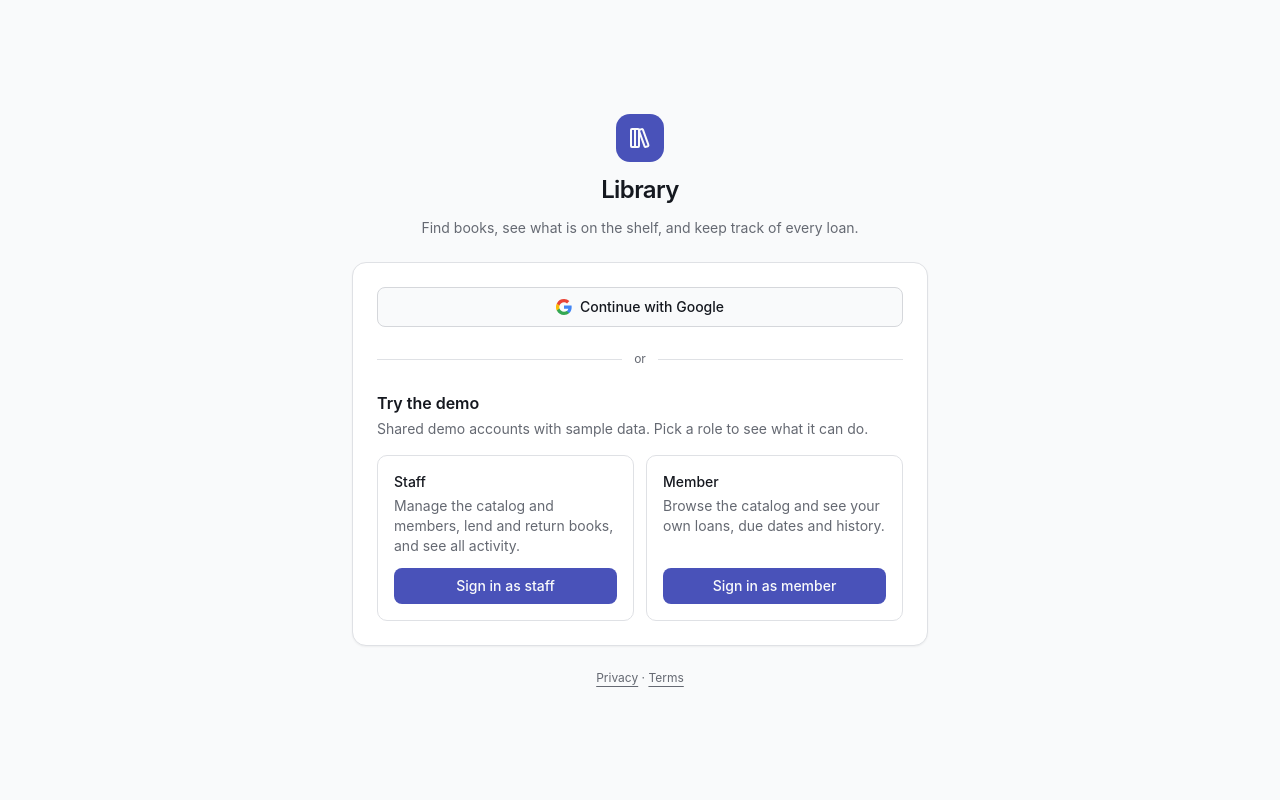
it: SignInPage › comes back to the page in next after signing in
Click the button "Sign in as member" at (774, 586), box [663, 568, 886, 604]
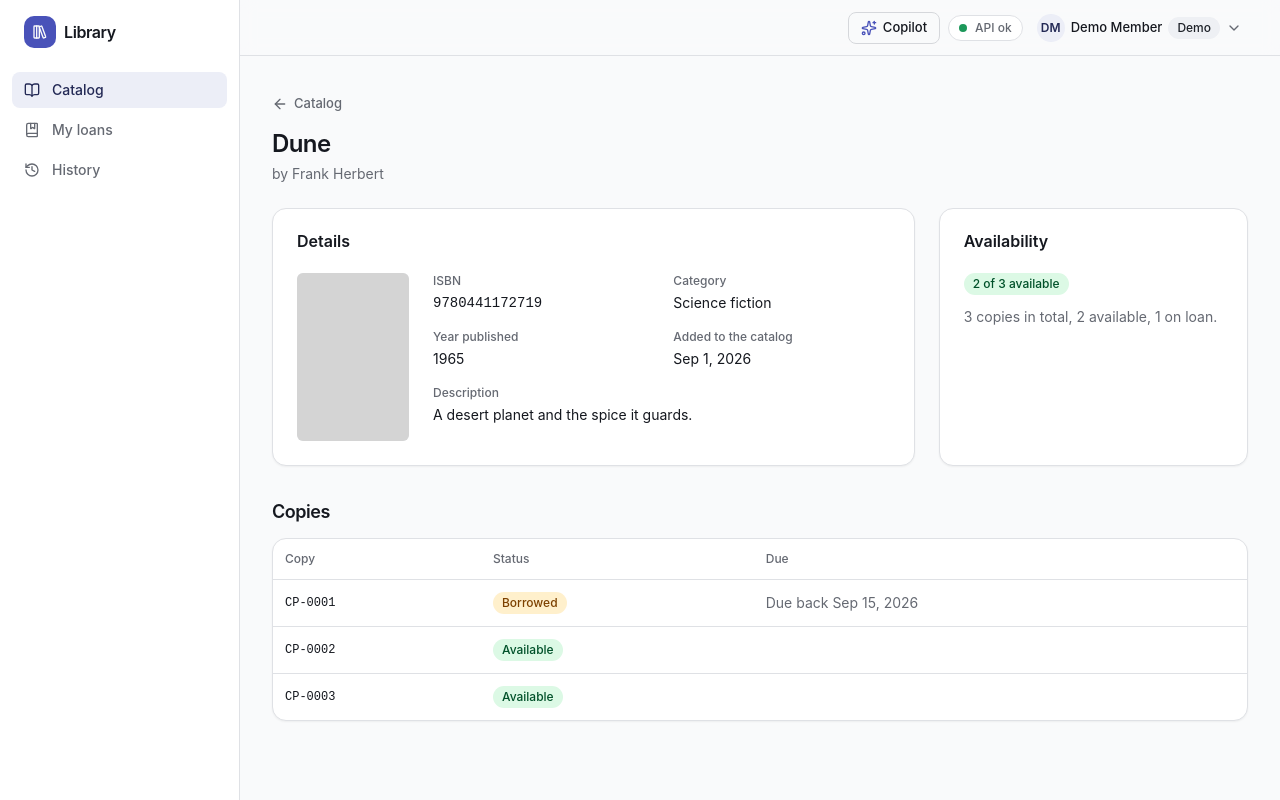
Check: the heading "Dune" is shown, box [272, 129, 330, 158]
